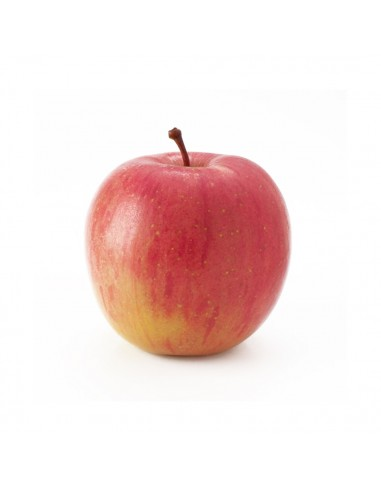apple: (82, 126, 298, 361)
